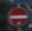No entry: (6, 5, 27, 26)
